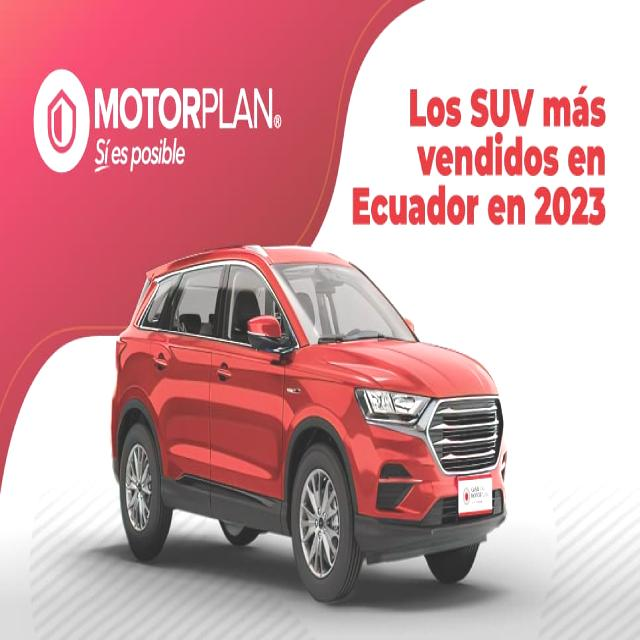SUV: (102, 241, 506, 605)
